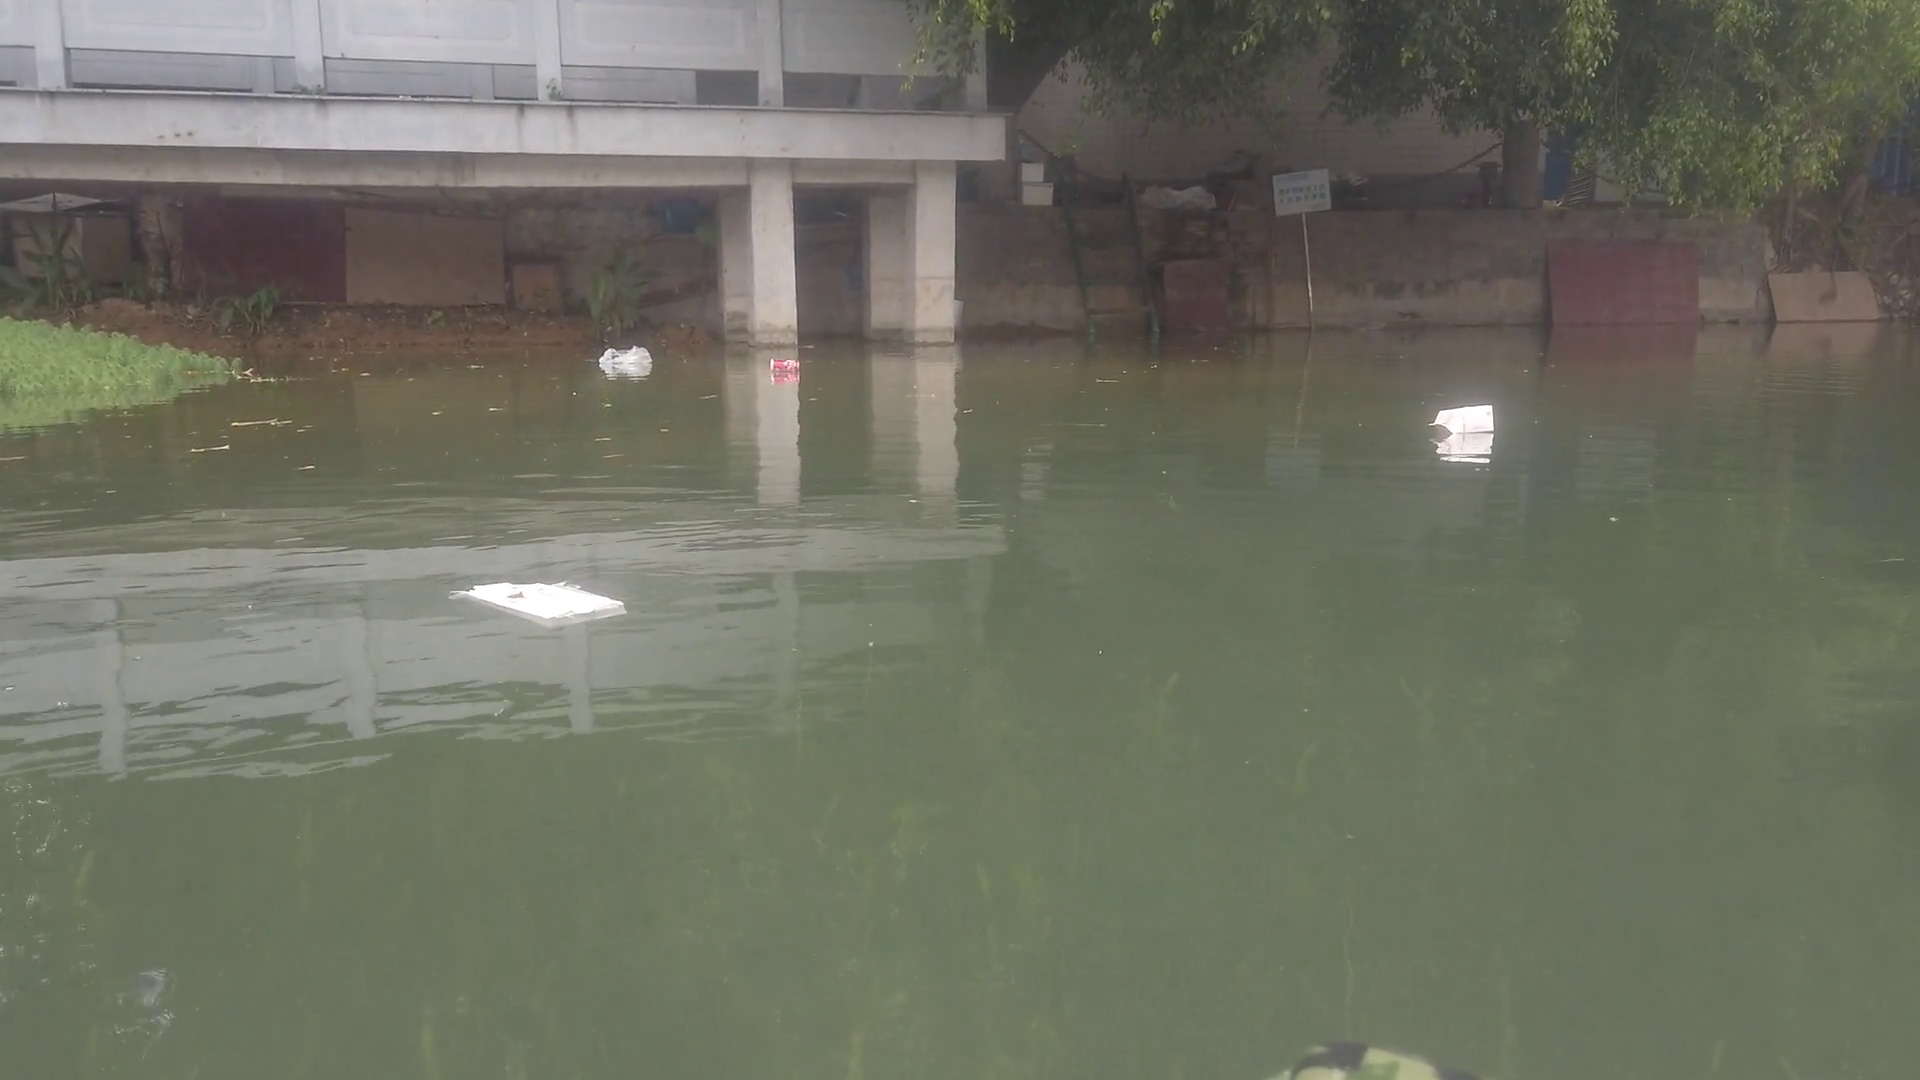bottle: (767, 356, 803, 373)
carton: (1428, 401, 1497, 433)
paper: (460, 578, 629, 622)
plastic: (597, 347, 653, 367)
